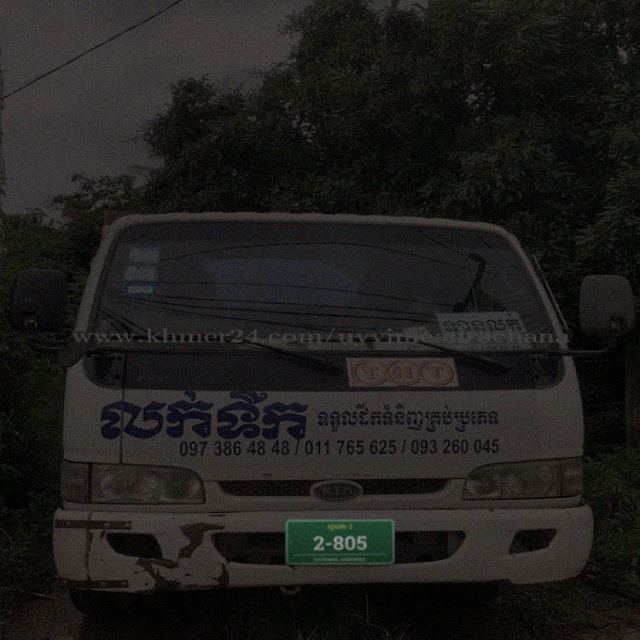Plate Number: (286, 520, 395, 566)
